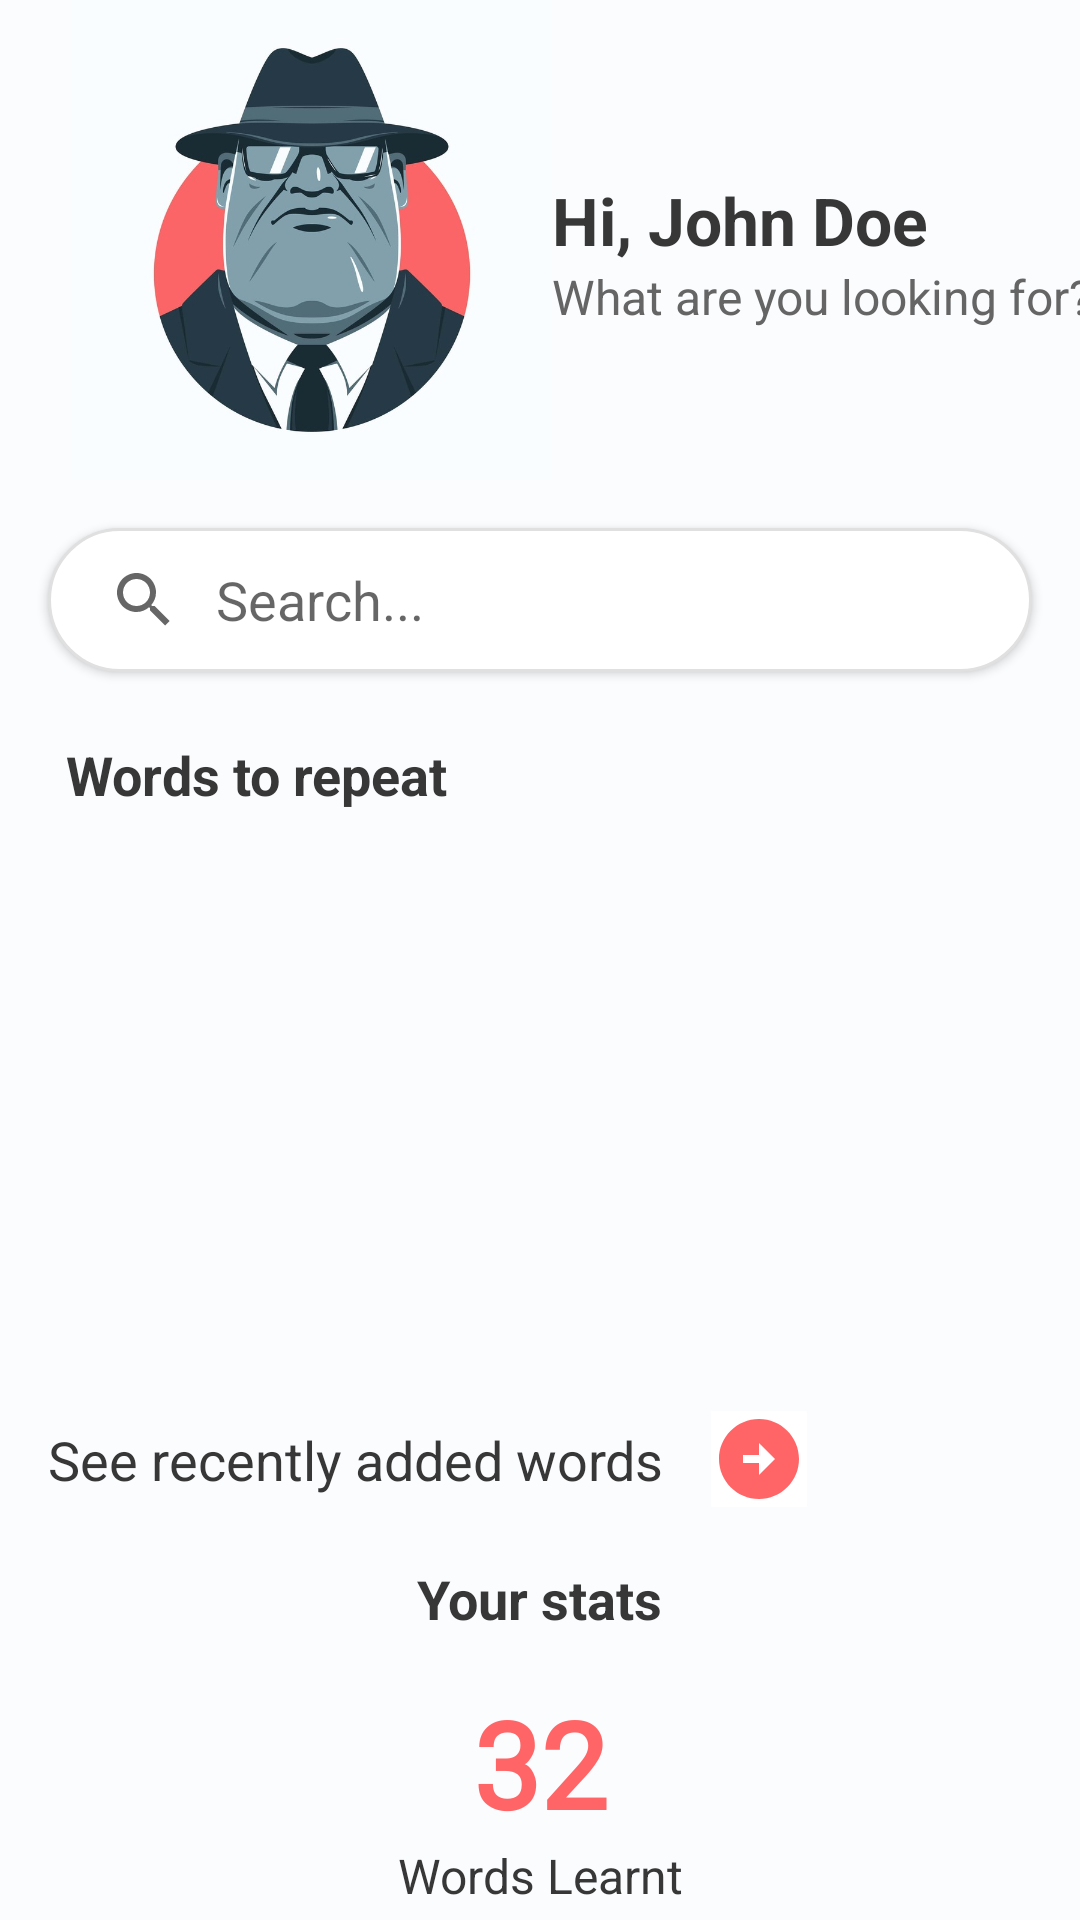

Screen size 1080 × 1920. Icon name, then its box in pixels as bbox=(x1, y1, x2, y2):
arrow circle right: bbox=(719, 1419, 799, 1499)
